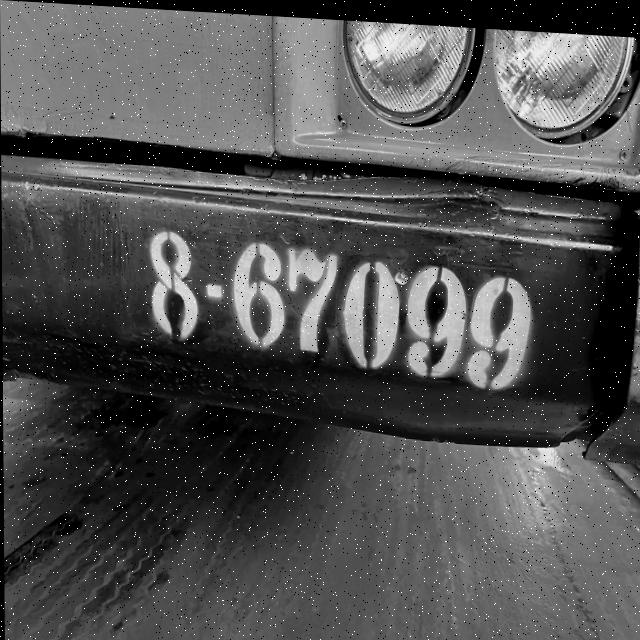BMTA-bus: (0, 0, 640, 463)
